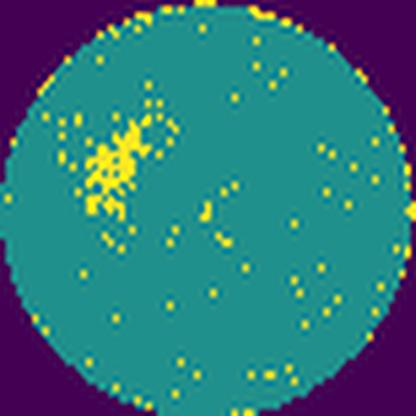Loc: (79, 115, 152, 220)
